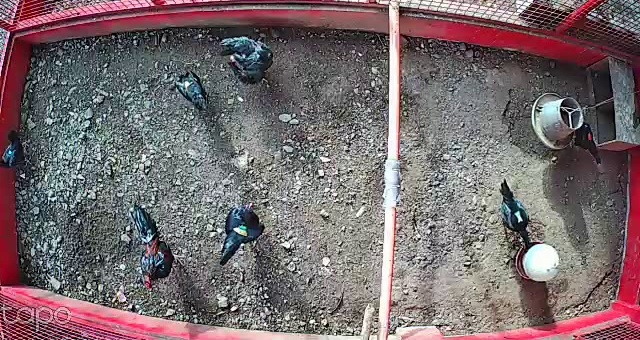Chicken: (218, 202, 274, 265), (217, 33, 277, 90), (493, 176, 534, 249), (567, 120, 604, 169), (174, 70, 211, 113)
Saddle_Color_Red: (587, 132, 593, 143)
Saddle_Color_White: (517, 215, 523, 222)
Saddle_Color_YellowGreen: (233, 225, 248, 237)
